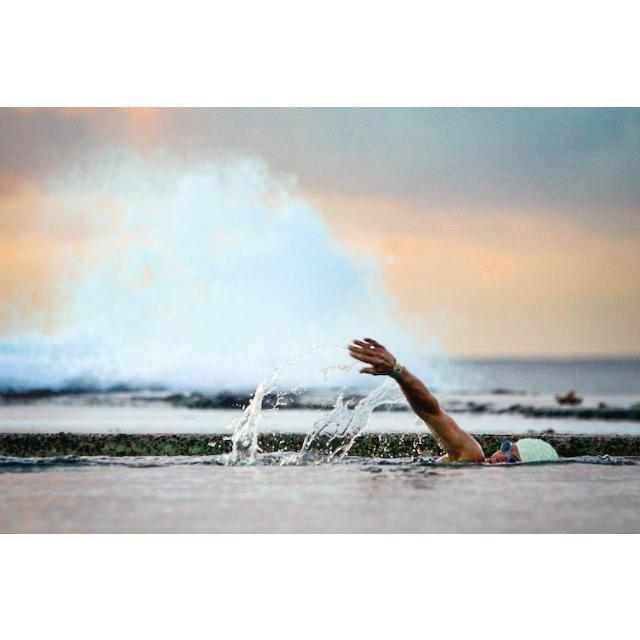human: (347, 334, 557, 466)
